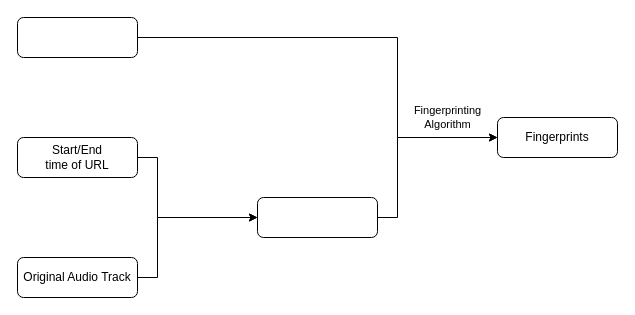
This 635x315 diagram has some shape labels left out. Here are the shapes that lost their labels. From the top down, the centre of each, then its label:
At point (77, 37): "URL (String)".
At point (317, 217): "Extracted Audio track segement".
